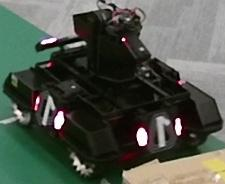armor_1: (136, 117, 183, 147), (35, 95, 64, 130)
front_1: (147, 111, 177, 153)
right_1: (35, 90, 56, 126)
